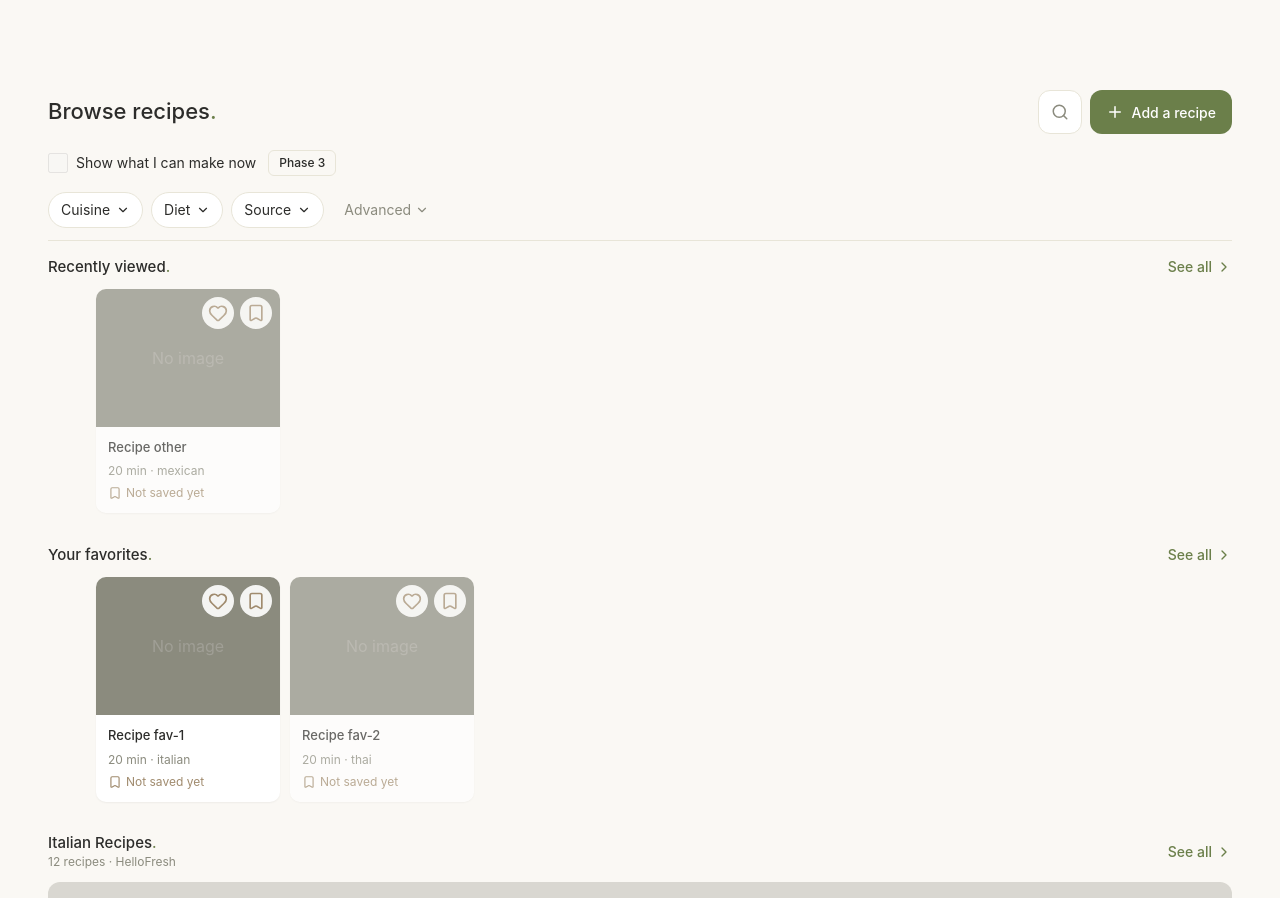
Recipes page — themes › theme filter › keeps whole lists that are Italian or contain an Italian recipe, hides the rest
The image size is (1280, 898).
Click the button "Cuisine" at (96, 210), box [48,192,143,228]
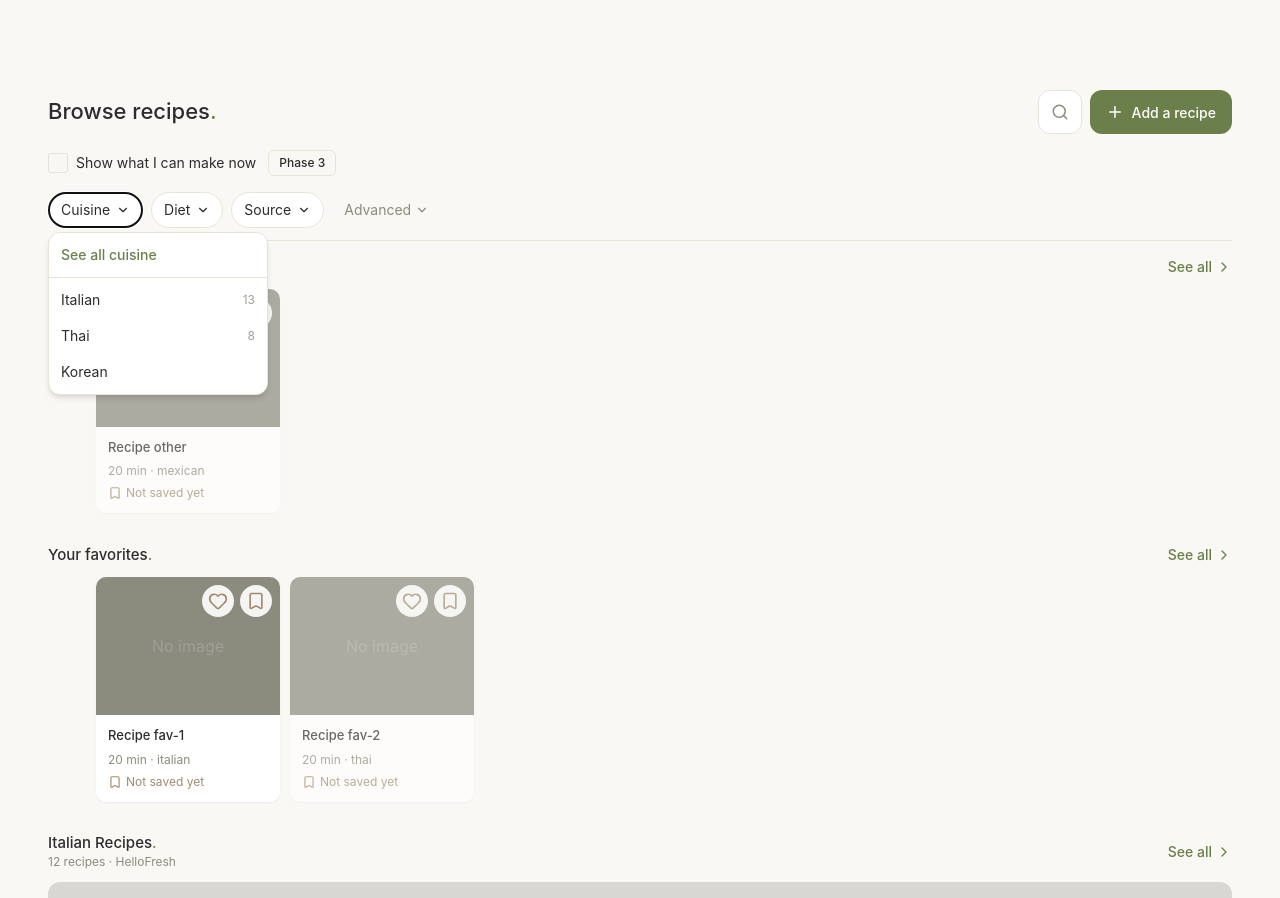
Click the menu item "Italian 13" at (158, 300), box [49,282,267,318]
(page scrolled)
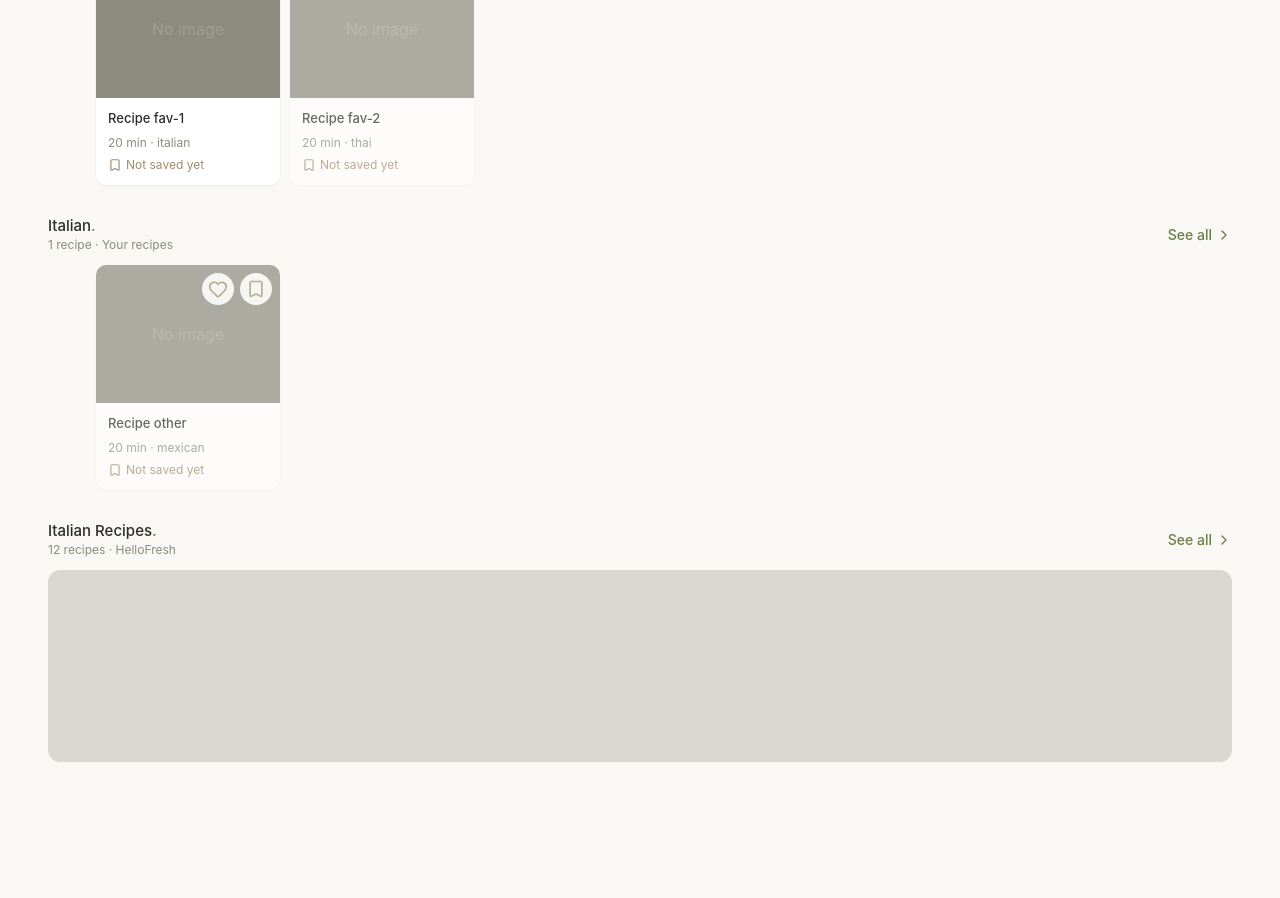
Check: the heading "Recipe fav-1" is shown, box [108,110,184,126]
Check: the element "Italian" is shown, box [48,216,1232,498]
